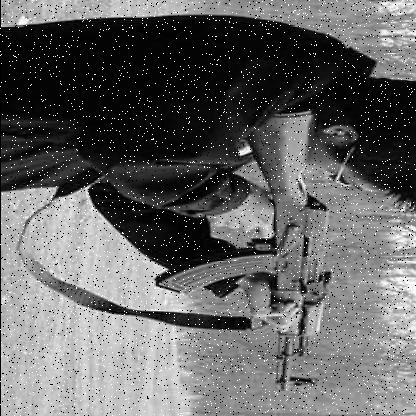rifle: (137, 101, 359, 400)
